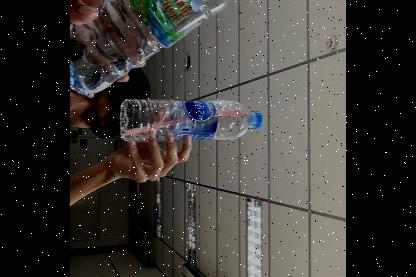Plastic Bottle: (69, 0, 273, 94), (110, 96, 269, 147)
